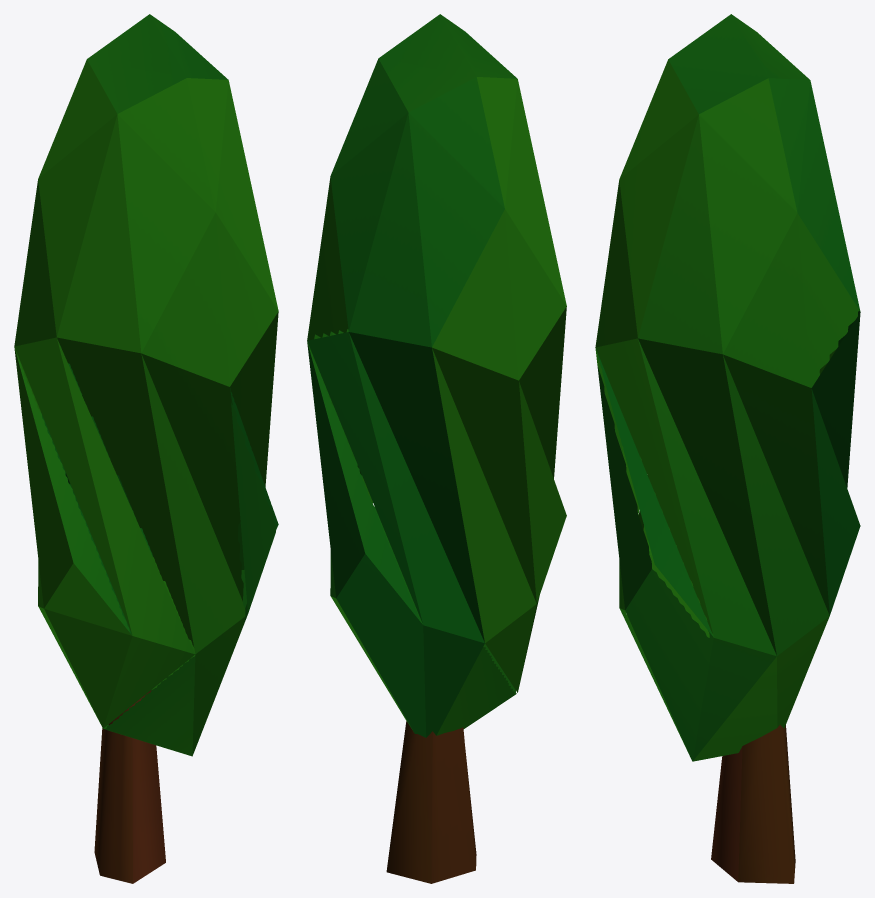
Rendered from drzewo4.obj.
3 renders of one model, left to right at view 1: azimuth 30°, elevation 25°; view 2: azimuth 150°, elevation 25°; view 3: azimuth 270°, elevation 25°, orthographic. The views are drawn at different scales.
Parts seen in each view (by area): view 1: GeoSphere013; view 2: GeoSphere013; view 3: GeoSphere013.
Boxes of the visible parts, left/top/right/bottom form: GeoSphere013: left=14, top=14, right=278, bottom=883; GeoSphere013: left=307, top=14, right=566, bottom=883; GeoSphere013: left=595, top=14, right=860, bottom=883.
Bounding box in the file's own units: 36.75 × 133 × 37.23.
